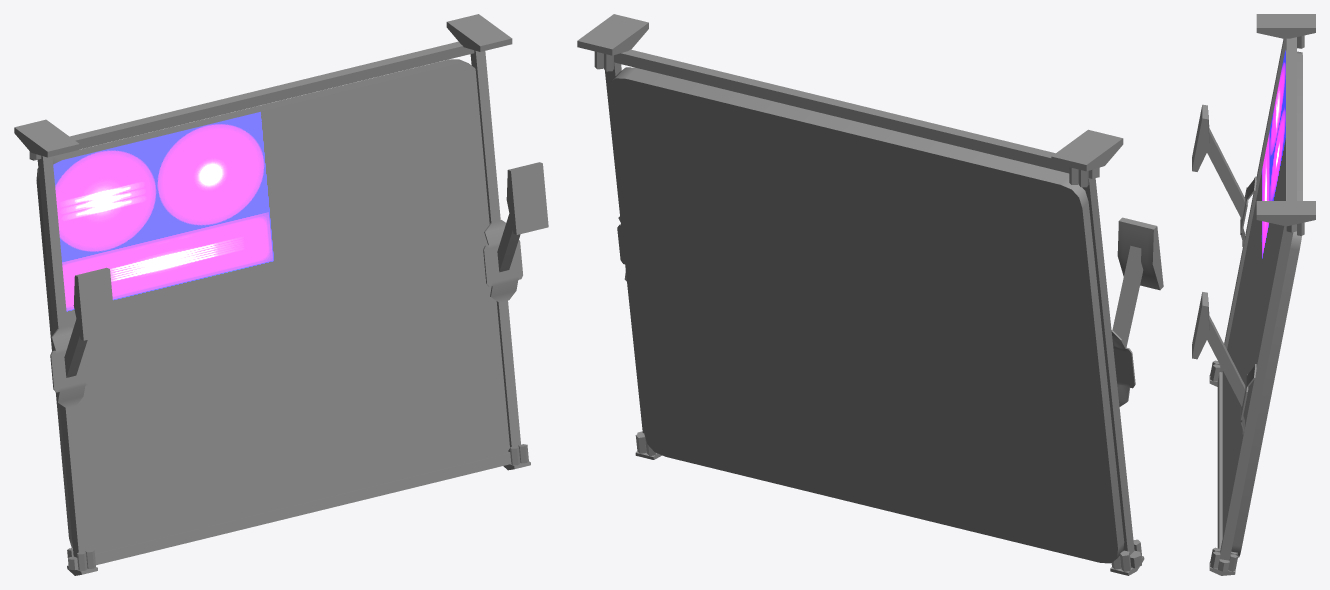
Rendered from Spctr_Screen_01.FBX.
The picture shows the model from 3 angles, left to right: view 1: azimuth 30°, elevation 25°; view 2: azimuth 150°, elevation 25°; view 3: azimuth 270°, elevation 25°; orthographic projection. The views are drawn at different scales.
Visible parts, largest first — view 1: Spctr_Screen_01; view 2: Spctr_Screen_01; view 3: Spctr_Screen_01.
Boxes of the visible parts, bbox=[...] form: Spctr_Screen_01: bbox=[14, 14, 548, 575]; Spctr_Screen_01: bbox=[577, 14, 1163, 575]; Spctr_Screen_01: bbox=[1192, 14, 1315, 575].
Size of the model in its own units: 1.3 by 1.09 by 0.3364.
